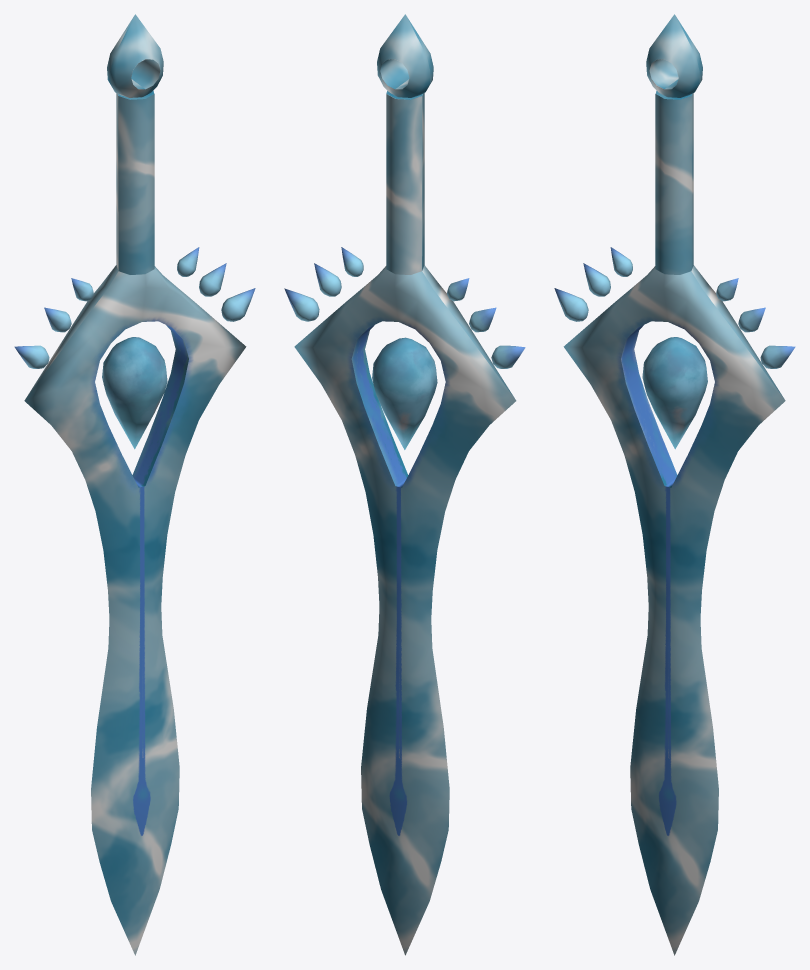
File: Water_sword.fbx
3 views of the same model, side by side, from view 1: azimuth 30°, elevation 25°; view 2: azimuth 150°, elevation 25°; view 3: azimuth 330°, elevation 25° (orthographic).
Visible parts, largest first — view 1: Water_sword, A drop, lit_drops; view 2: Water_sword, A drop, lit_drops; view 3: Water_sword, A drop, lit_drops.
Boxes of the visible parts, x1,y1,x2,y2 form: Water_sword: (24,14,246,955); A drop: (102,337,167,449); lit_drops: (14,247,255,368); Water_sword: (294,14,516,955); A drop: (372,337,437,449); lit_drops: (284,247,525,368); Water_sword: (563,14,785,955); A drop: (642,337,707,449); lit_drops: (554,247,795,368).
Size of the model in its own units: 182 by 679 by 42.83.
3 materials, 3 textured.
